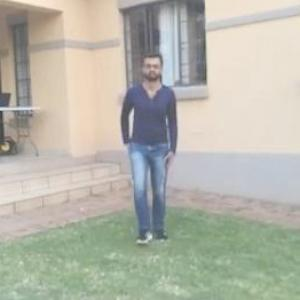follow: (116, 44, 178, 254)
